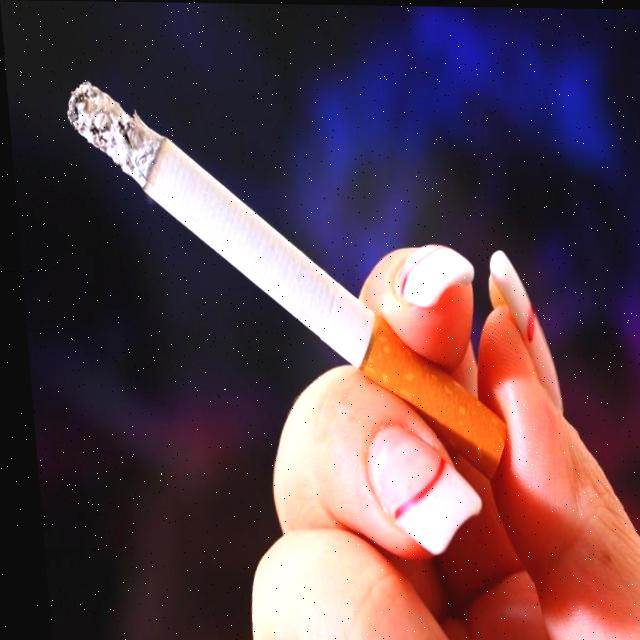cigarette: (65, 83, 503, 481)
